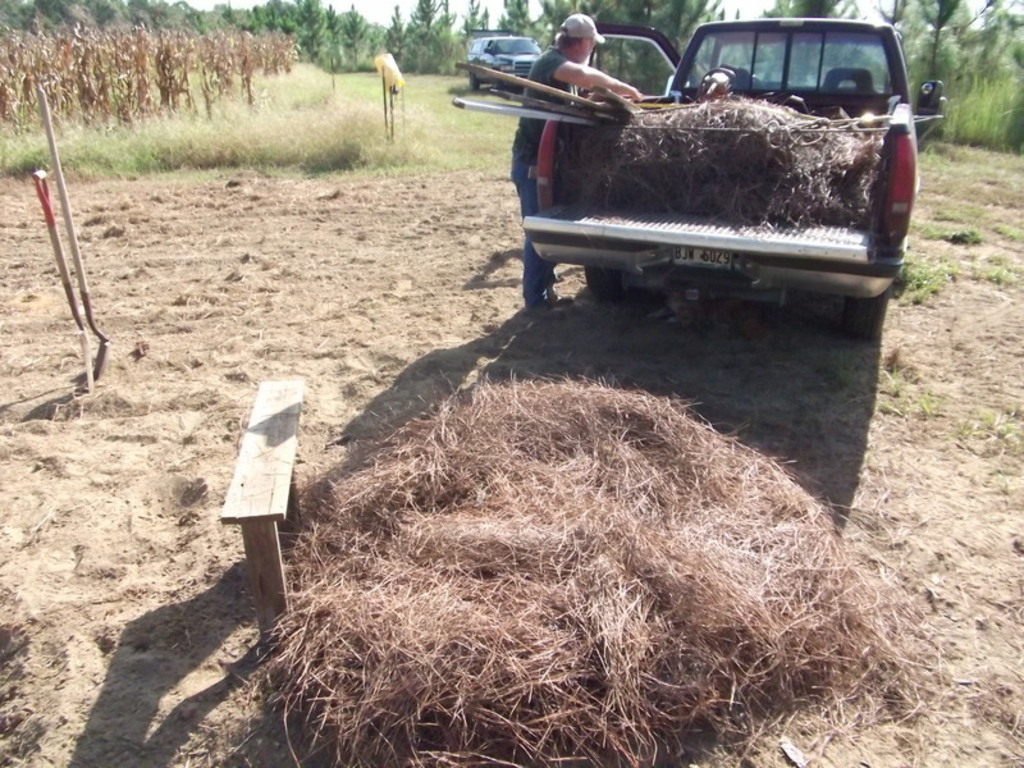Car: (467, 34, 558, 93)
